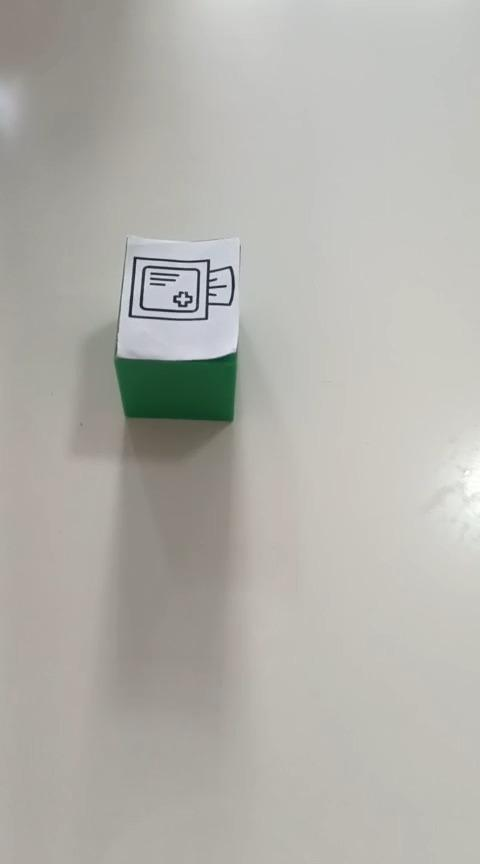Gauze: (112, 233, 241, 422)
